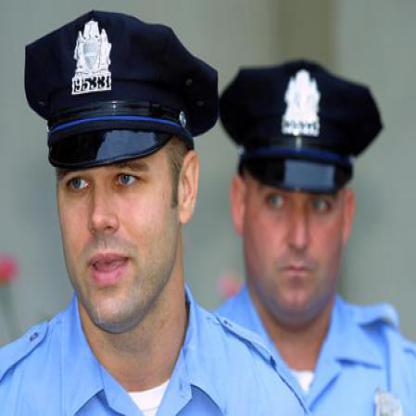face: (50, 36, 183, 329), (242, 74, 348, 317)
